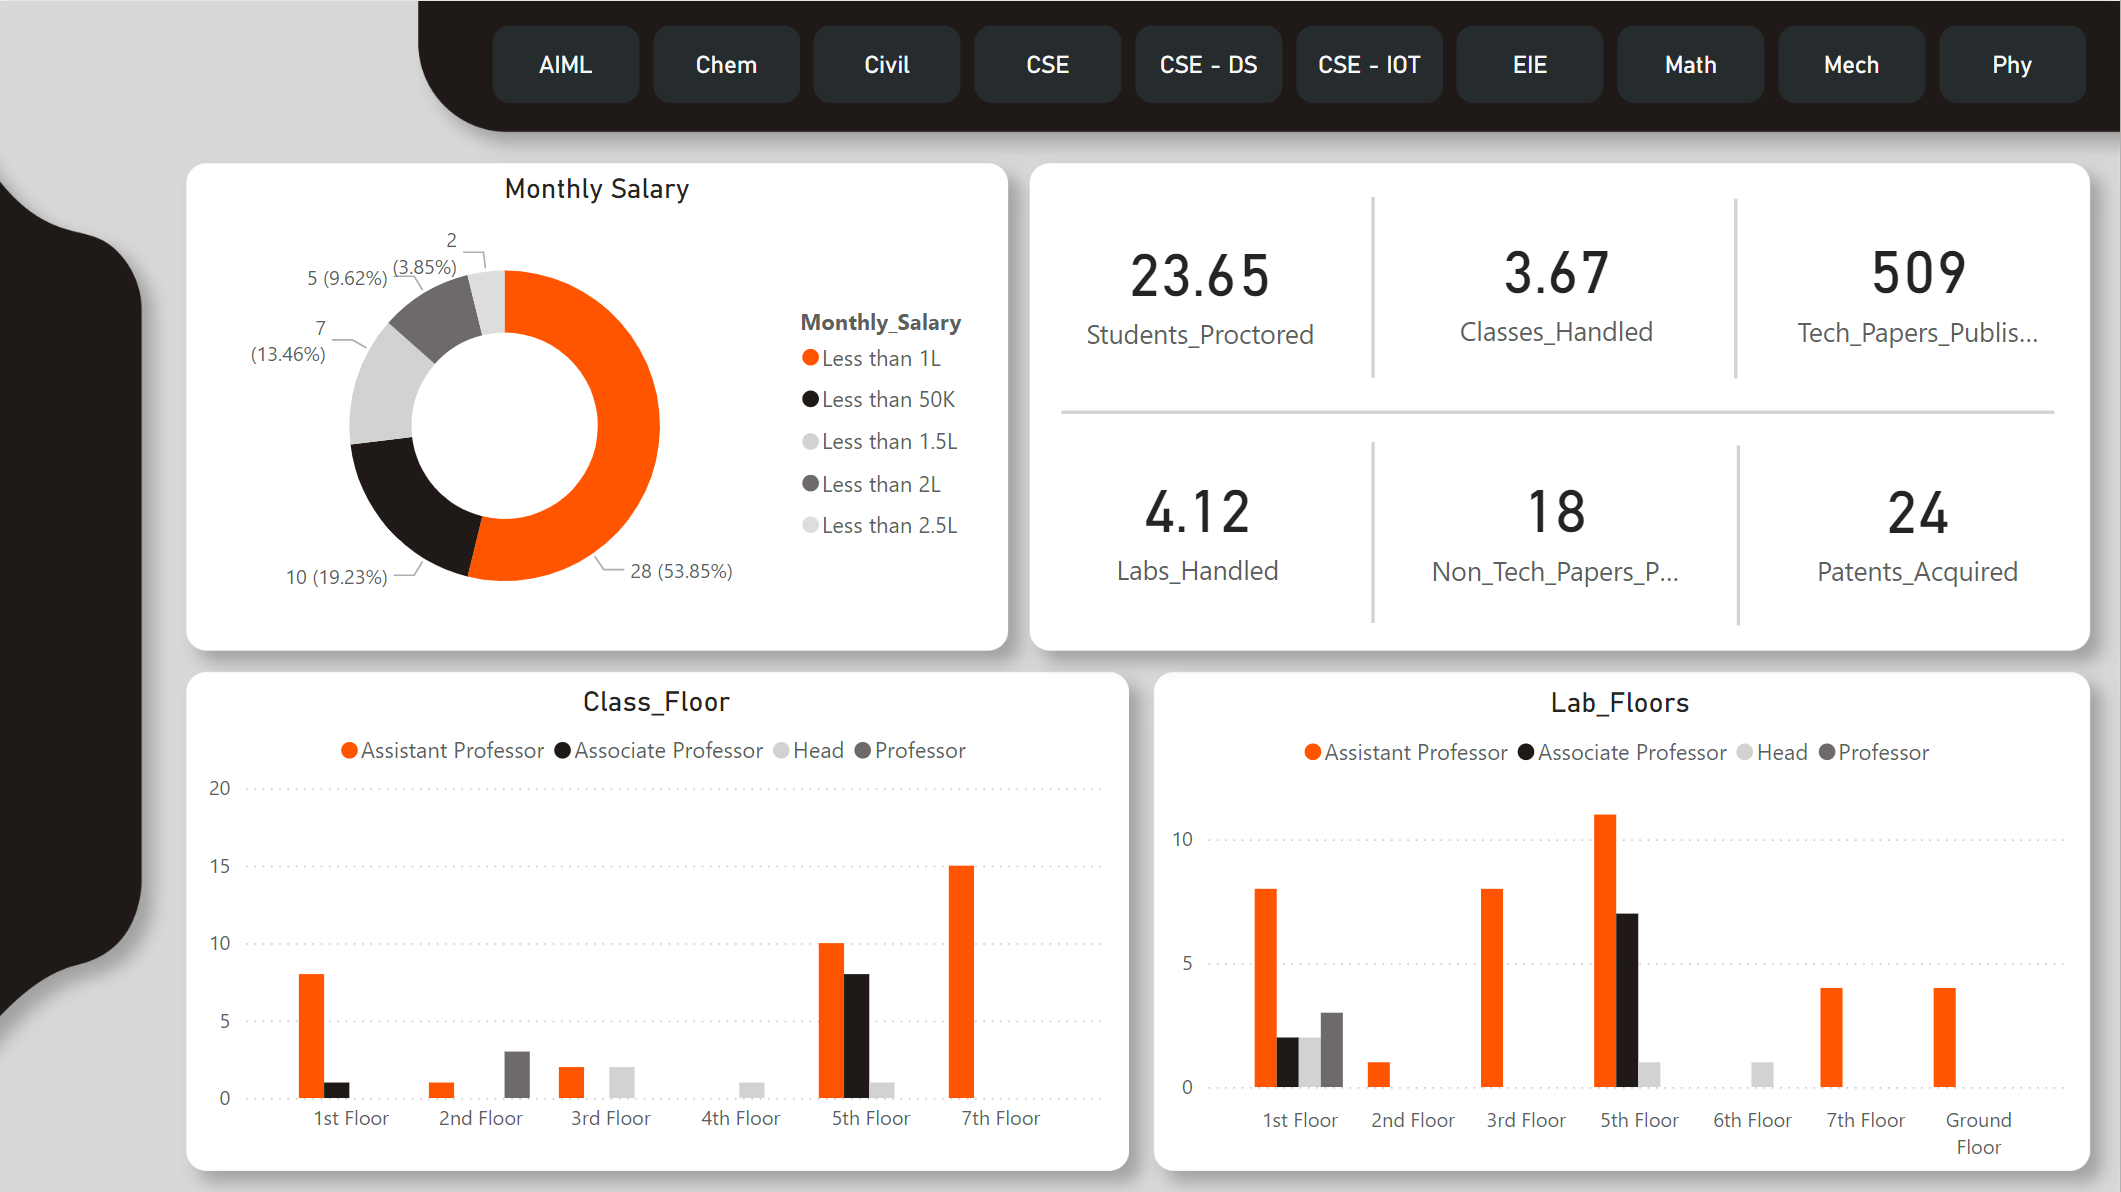

Layout of this report page (visuals, bound fields, positions):
{"tool":"powerbi","page":{"name":"Proctor and classes","canvas":[1280,720],"ordinal":2},"visuals":[{"type":"clusteredColumnChart","title":"Lab_Floors","fields":{"Category":["HR_project.Lab_Floor_new"],"Y":["CountNonNull(HR_project.Department)"],"Series":["HR_project.Designation"]},"box":[702.5,408.2,552,297.6],"z":0},{"type":"clusteredColumnChart","title":"Class_Floor","fields":{"Category":["HR_project.Class_Floor"],"Y":["CountNonNull(HR_project.Department)"],"Series":["HR_project.Designation"]},"box":[121.2,413.3,550.7,279.2],"z":1000},{"type":"donutChart","title":" Monthly Salary","fields":{"Category":["Augmented_Data_Visualisation_HR_Management_Project.Monthly_Salary_Benefits"],"Y":["CountNonNull(HR_project.Monthly_Salary_Benefits)"]},"box":[121.7,104,479,286.5],"z":2000},{"type":"card","fields":{"Values":["Avg(HR_project.Students_Proctored)"]},"box":[642.7,117.9,163.4,108.2],"z":3000},{"type":"advancedSlicerVisual","fields":{"Values":["HR_project.Department"]},"box":[292.1,9.7,979.2,57.3],"z":4000},{"type":"card","fields":{"Values":["Avg(HR_project.Labs_Handled)"]},"box":[640.5,260.8,164.5,108.2],"z":5000},{"type":"card","fields":{"Values":["Avg(HR_project.Classes_Handled)"]},"box":[858.5,116.2,162.6,108.4],"z":6000},{"type":"card","fields":{"Values":["Sum(HR_project.Non_Tech_Papers_Published)"]},"box":[857.4,261.1,162.6,108.4],"z":7000},{"type":"card","fields":{"Values":["Sum(HR_project.Tech_Papers_Published)"]},"box":[1076.6,115.8,163.4,109.3],"z":8000},{"type":"card","fields":{"Values":["Sum(HR_project.Patents_Acquired)"]},"box":[1076.6,260.8,163.4,109.3],"z":9000},{"type":"shape","box":[640.5,160.1,599.4,175.3],"z":10000},{"type":"shape","box":[980.2,119.5,136.1,108.4],"z":11000},{"type":"shape","box":[969.1,267.7,160.4,108.4],"z":12000},{"type":"shape","box":[710.9,117.9,237,109.3],"z":13000},{"type":"shape","box":[710.9,266.2,237,109.3],"z":14000},{"type":"image","box":[20.1,200.7,44.4,44.4],"z":18000},{"type":"image","box":[20.1,327.4,45.4,42.2],"z":19000},{"type":"image","box":[19,460.5,46.5,50.7],"z":20000}]}

Visuals, with their boxes in screenshot pixels (x1, y1, x2, y2), scaled from the page's 1280x720 canvas onto the 2121x1192 screenshot:
"Lab_Floors" clusteredColumnChart: x1=1164, y1=676, x2=2079, y2=1168
"Class_Floor" clusteredColumnChart: x1=201, y1=684, x2=1113, y2=1146
" Monthly Salary" donutChart: x1=202, y1=172, x2=995, y2=646
card - Avg(HR_project.Students_Proctored): x1=1065, y1=195, x2=1336, y2=374
advancedSlicerVisual - HR_project.Department: x1=484, y1=16, x2=2107, y2=111
card - Avg(HR_project.Labs_Handled): x1=1061, y1=432, x2=1334, y2=611
card - Avg(HR_project.Classes_Handled): x1=1423, y1=192, x2=1692, y2=372
card - Sum(HR_project.Non_Tech_Papers_Published): x1=1421, y1=432, x2=1690, y2=612
card - Sum(HR_project.Tech_Papers_Published): x1=1784, y1=192, x2=2055, y2=373
card - Sum(HR_project.Patents_Acquired): x1=1784, y1=432, x2=2055, y2=613
shape: x1=1061, y1=265, x2=2055, y2=555
shape: x1=1624, y1=198, x2=1850, y2=377
shape: x1=1606, y1=443, x2=1872, y2=623
shape: x1=1178, y1=195, x2=1571, y2=376
shape: x1=1178, y1=441, x2=1571, y2=622
image: x1=33, y1=332, x2=107, y2=406
image: x1=33, y1=542, x2=109, y2=612
image: x1=31, y1=762, x2=109, y2=846
